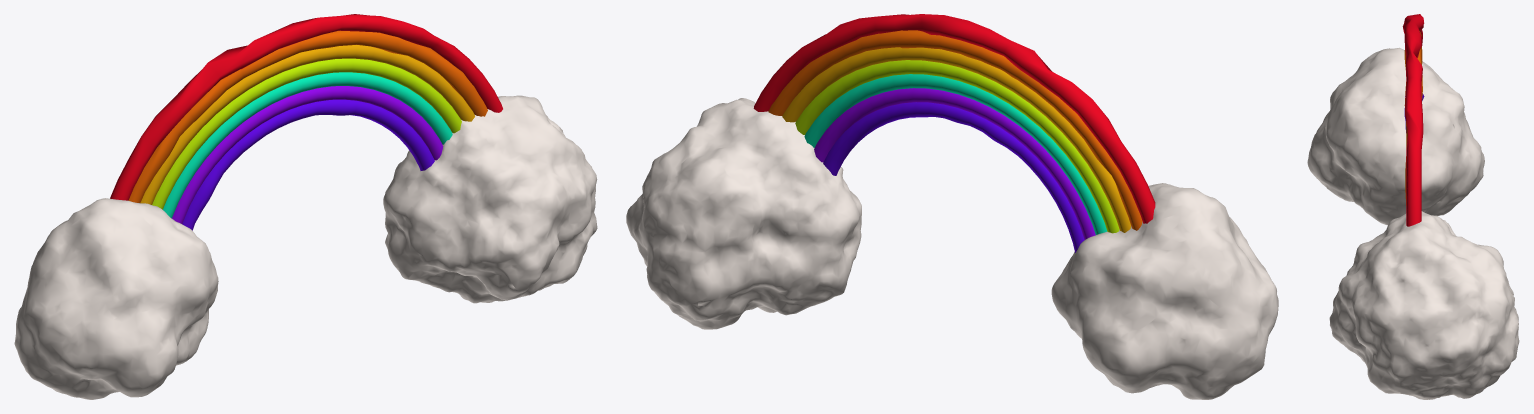
3 renders of one model, left to right at view 1: azimuth 30°, elevation 25°; view 2: azimuth 150°, elevation 25°; view 3: azimuth 270°, elevation 25°, orthographic. The views are drawn at different scales.
Parts seen in each view (by area): view 1: Gee_8, Alpha_7, Alpha.0006_6, Alpha.0005_5, Alpha.0004_4, Alpha.0003_3, Alpha.0002_2, Alpha.0000_0, Alpha.0001_1; view 2: Gee_8, Alpha_7, Alpha.0006_6, Alpha.0005_5, Alpha.0004_4, Alpha.0003_3, Alpha.0002_2, Alpha.0001_1, Alpha.0000_0; view 3: Gee_8, Alpha_7, Alpha.0006_6, Alpha.0005_5.
Boxes of the visible parts, left/top/right/bottom form: Gee_8: left=383, top=95, right=597, bottom=303; Alpha_7: left=14, top=198, right=218, bottom=399; Alpha.0006_6: left=110, top=14, right=502, bottom=200; Alpha.0005_5: left=128, top=30, right=487, bottom=202; Alpha.0004_4: left=140, top=45, right=474, bottom=204; Alpha.0003_3: left=152, top=58, right=461, bottom=209; Alpha.0002_2: left=163, top=72, right=452, bottom=218; Alpha.0000_0: left=182, top=99, right=434, bottom=230; Alpha.0001_1: left=172, top=86, right=443, bottom=223; Gee_8: left=626, top=98, right=861, bottom=329; Alpha_7: left=1051, top=183, right=1278, bottom=399; Alpha.0006_6: left=753, top=14, right=1155, bottom=223; Alpha.0005_5: left=768, top=30, right=1142, bottom=230; Alpha.0004_4: left=782, top=47, right=1130, bottom=232; Alpha.0003_3: left=795, top=60, right=1119, bottom=233; Alpha.0002_2: left=804, top=74, right=1107, bottom=234; Alpha.0001_1: left=814, top=88, right=1095, bottom=239; Alpha.0000_0: left=823, top=102, right=1084, bottom=252; Gee_8: left=1329, top=211, right=1519, bottom=399; Alpha_7: left=1307, top=47, right=1484, bottom=225; Alpha.0006_6: left=1402, top=14, right=1424, bottom=226; Alpha.0005_5: left=1404, top=31, right=1422, bottom=205.
Bounding box in the file's own units: 4.31 × 2.3 × 1.61.
